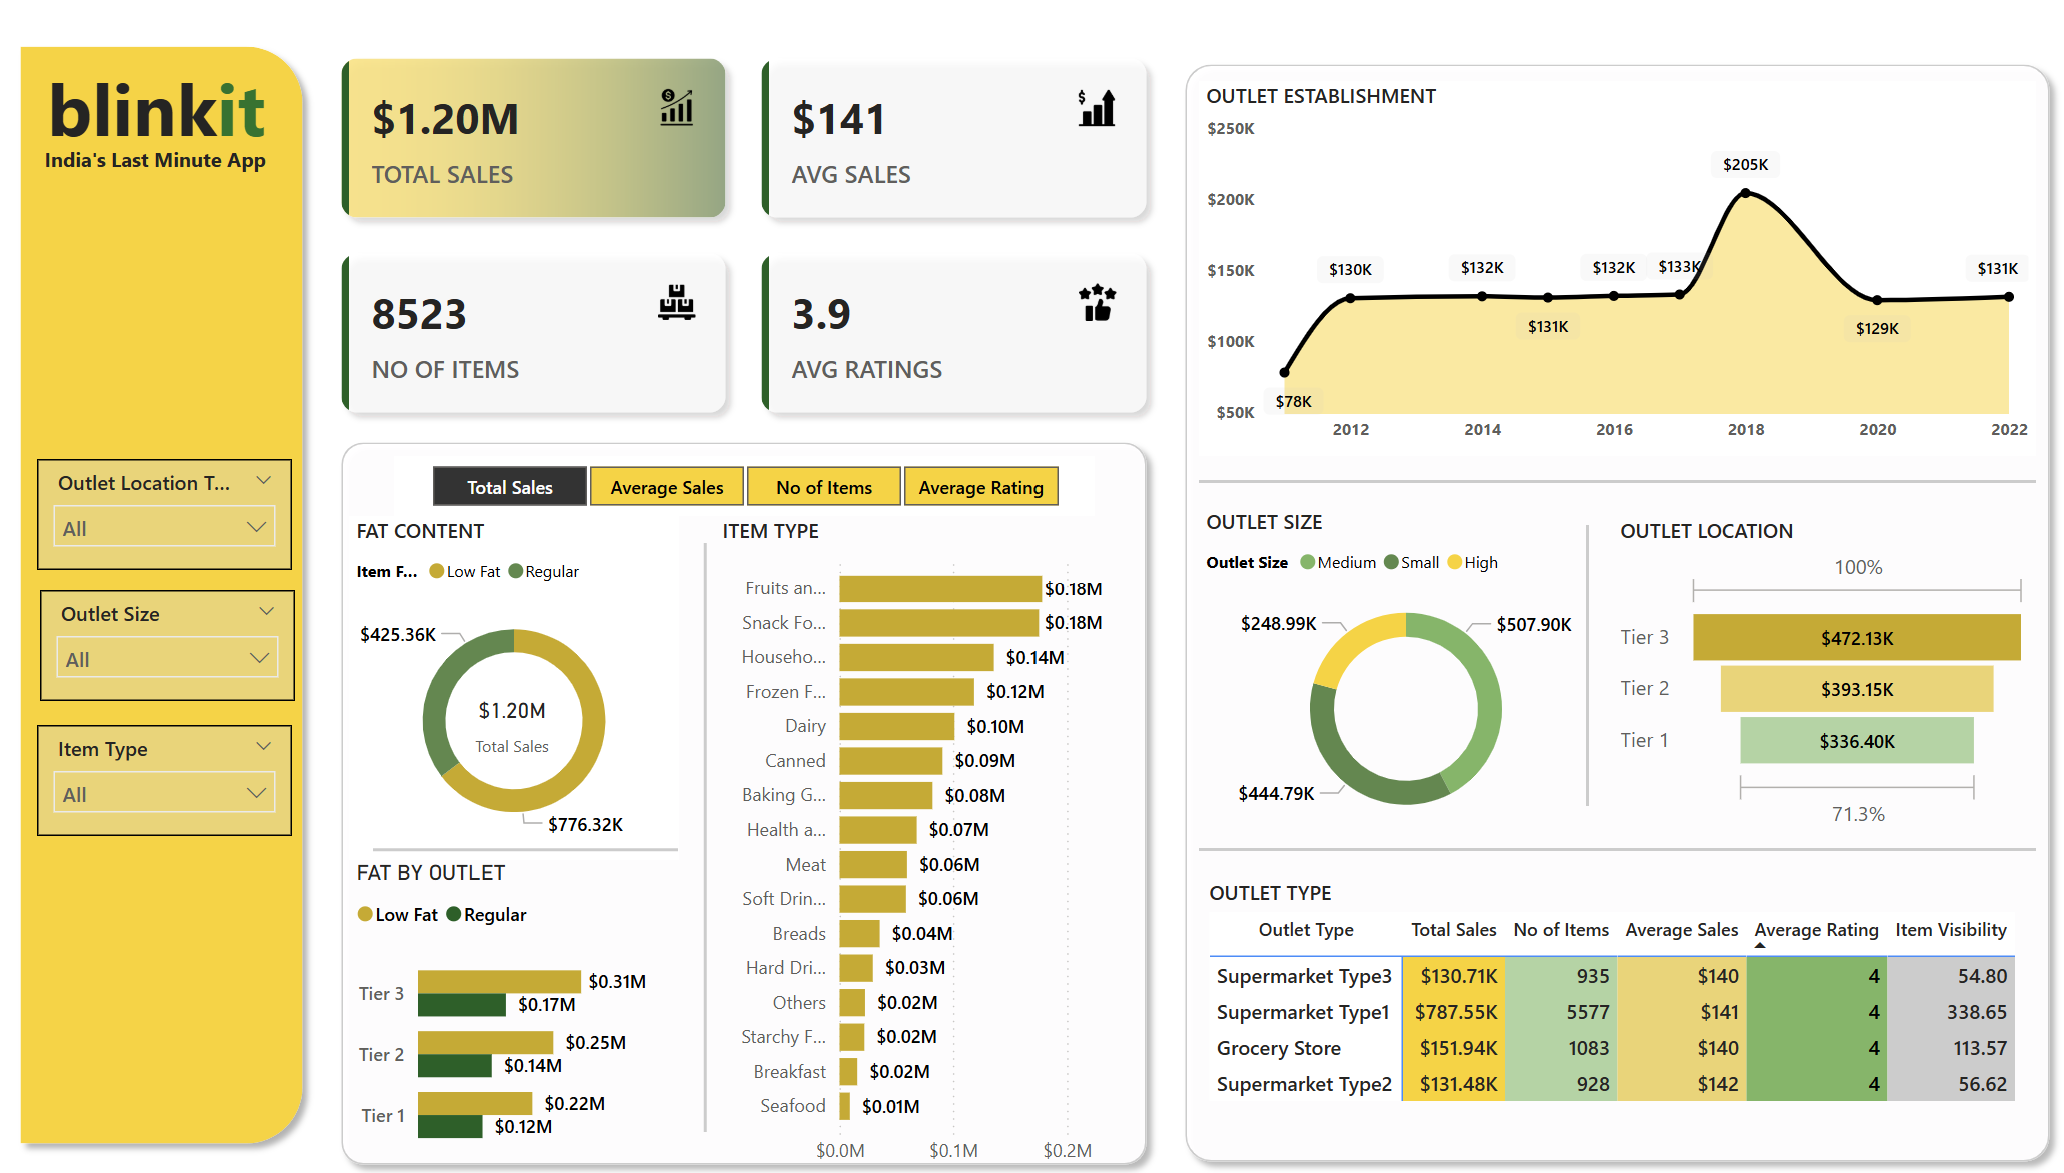

This screenshot's page, from the dashboard's own definition file:
{"tool":"powerbi","page":{"name":"Page 1","canvas":[1400,800],"ordinal":0},"visuals":[{"type":"shape","box":[14,24,206,750],"z":0},{"type":"textbox","box":[36,36,164,78],"z":1000},{"type":"textbox","box":[34,94,172,36],"z":2000},{"type":"cardVisual","fields":{"Data":["Measures (2).Total Sales","Measures (2).Average Sales","Measures (2).No of Items","Measures (2).Average Rating"]},"box":[220,24,570,270],"z":3000},{"type":"shape","box":[228,288,554,500],"z":4000},{"type":"donutChart","title":"FAT CONTENT","fields":{"Y":["Measures (2).No of Items"],"Category":["BlinkIT Grocery Data.Item Fat Content"]},"box":[241.7,346.7,220,230],"z":5000},{"type":"slicer","fields":{"Values":["Metrics .Metrics "]},"box":[271.7,306.7,466.7,40],"z":6000},{"type":"card","fields":{"Values":["Measures (2).No of Items"]},"box":[283.3,441.7,133.3,85],"z":7000},{"type":"clusteredBarChart","title":"FAT BY OUTLET","fields":{"Y":["Measures (2).No of Items"],"Category":["BlinkIT Grocery Data.Outlet Location Type"],"Series":["BlinkIT Grocery Data.Item Fat Content"]},"box":[241.7,576.7,203.3,208.3],"z":8000},{"type":"shape","box":[258.3,540,203.3,58.3],"z":9000},{"type":"shape","box":[461.7,363.3,35,393.3],"z":10000},{"type":"barChart","title":"ITEM TYPE","fields":{"Y":["Measures (2).No of Items"],"Category":["BlinkIT Grocery Data.Item Type"]},"box":[485,345,280,441.7],"z":11000},{"type":"shape","box":[790,36,594,750],"z":12000},{"type":"lineChart","title":"OUTLET ESTABLISHMENT","fields":{"Y":["Measures (2).Total Sales"],"Category":["BlinkIT Grocery Data.Outlet Establishment Year"]},"box":[808,56,558,250],"z":13000},{"type":"donutChart","title":"OUTLET SIZE","fields":{"Y":["Measures (2).Total Sales"],"Category":["BlinkIT Grocery Data.Outlet Size"]},"box":[808,340,276,226],"z":14000},{"type":"shape","box":[808,294,558,58],"z":15000},{"type":"shape","box":[1044,352,46,188],"z":16000},{"type":"funnel","title":"OUTLET LOCATION","fields":{"Y":["Measures (2).Total Sales"],"Category":["BlinkIT Grocery Data.Outlet Location Type"]},"box":[1084,346,282,214],"z":17000},{"type":"shape","box":[808,540,558,58],"z":18000},{"type":"pivotTable","title":"OUTLET TYPE","fields":{"Rows":["BlinkIT Grocery Data.Outlet Type"],"Values":["Measures (2).Total Sales","Measures (2).No of Items","Measures (2).Average Sales","Measures (2).Average Rating","Sum(BlinkIT Grocery Data.Item Visibility)"]},"box":[810,588,556,186],"z":19000},{"type":"slicer","fields":{"Values":["BlinkIT Grocery Data.Outlet Location Type"]},"box":[34,308,170,74],"z":19001},{"type":"slicer","fields":{"Values":["BlinkIT Grocery Data.Outlet Size"]},"box":[36,396,170,74],"z":19002},{"type":"slicer","fields":{"Values":["BlinkIT Grocery Data.Item Type"]},"box":[34,486,170,74],"z":19003}]}

Visuals, with their boxes in screenshot pixels (x1, y1, x2, y2), scaled from the page's 1400x800 canvas onto the 2064x1173 screenshot:
shape: select_region(21, 35, 324, 1135)
textbox: select_region(53, 53, 295, 167)
textbox: select_region(50, 138, 304, 191)
cardVisual - Measures (2).Total Sales x Measures (2).Average Sales: select_region(324, 35, 1165, 431)
shape: select_region(336, 422, 1153, 1155)
"FAT CONTENT" donutChart: select_region(356, 508, 681, 846)
slicer - Metrics .Metrics : select_region(401, 450, 1089, 508)
card - Measures (2).No of Items: select_region(418, 648, 614, 772)
"FAT BY OUTLET" clusteredBarChart: select_region(356, 846, 656, 1151)
shape: select_region(381, 792, 681, 877)
shape: select_region(681, 533, 732, 1109)
"ITEM TYPE" barChart: select_region(715, 506, 1128, 1153)
shape: select_region(1165, 53, 2040, 1152)
"OUTLET ESTABLISHMENT" lineChart: select_region(1191, 82, 2014, 449)
"OUTLET SIZE" donutChart: select_region(1191, 499, 1598, 830)
shape: select_region(1191, 431, 2014, 516)
shape: select_region(1539, 516, 1607, 792)
"OUTLET LOCATION" funnel: select_region(1598, 507, 2014, 821)
shape: select_region(1191, 792, 2014, 877)
"OUTLET TYPE" pivotTable: select_region(1194, 862, 2014, 1135)
slicer - BlinkIT Grocery Data.Outlet Location Type: select_region(50, 452, 301, 560)
slicer - BlinkIT Grocery Data.Outlet Size: select_region(53, 581, 304, 689)
slicer - BlinkIT Grocery Data.Item Type: select_region(50, 713, 301, 821)
